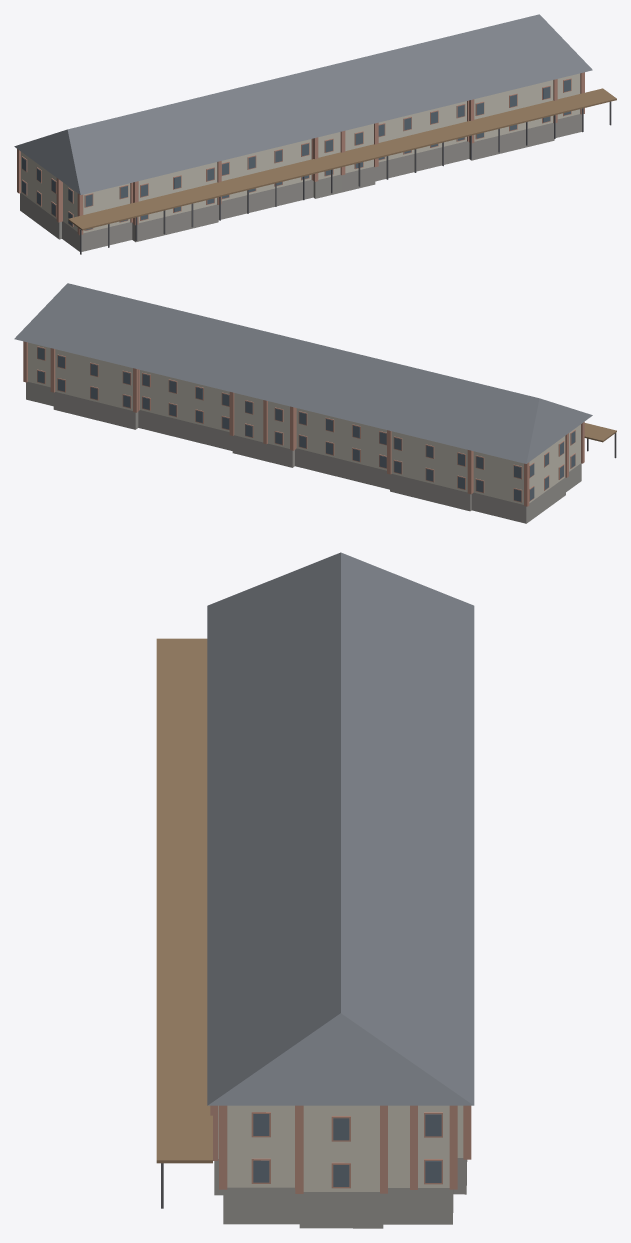
The model's file is landmark-loerrach-bahnhof.189c0c1298.glb.
3 views of the same model, one above another, from view 1: azimuth 30°, elevation 25°; view 2: azimuth 150°, elevation 25°; view 3: azimuth 270°, elevation 25° (orthographic). The views are drawn at different scales.
Visible parts, largest first — view 1: building; view 2: building; view 3: building.
Part boxes in pixels (x1=…): building: x1=14, y1=14, x2=616, y2=254; building: x1=14, y1=283, x2=616, y2=523; building: x1=156, y1=552, x2=474, y2=1228.
Bounding box in the file's own units: 76.8 × 13.6 × 19.73.
